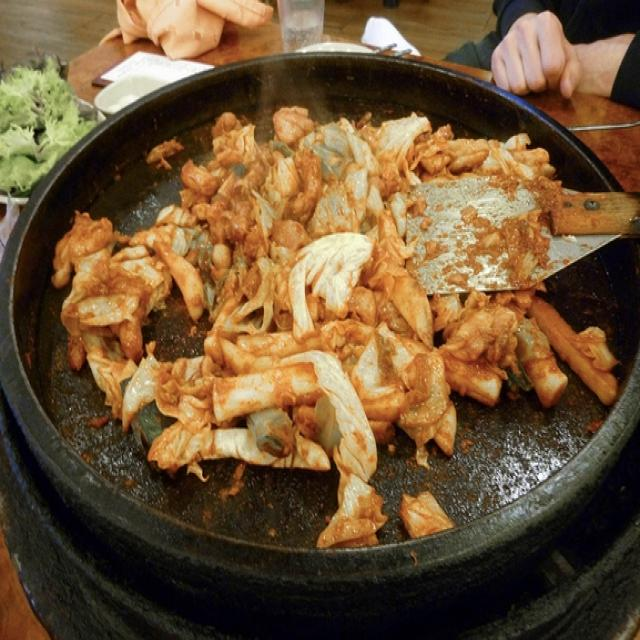鸡肉料理 含炸鸡: (1, 34, 638, 610)
